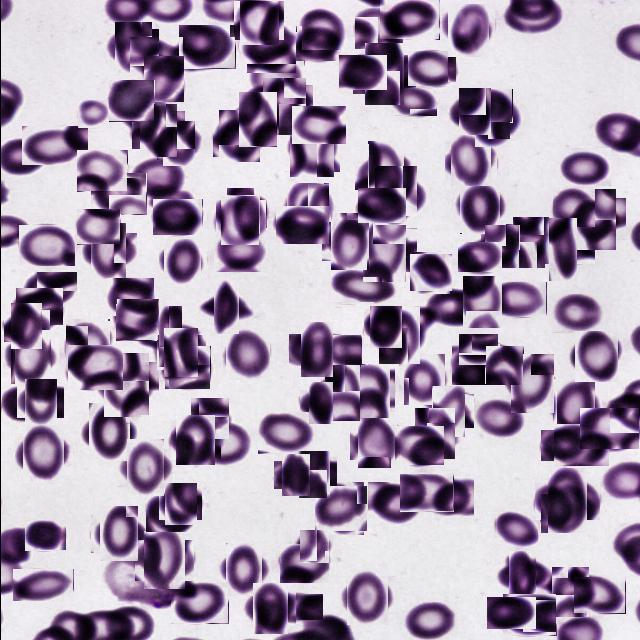red blood cell: (98, 358, 154, 412), (356, 223, 411, 277), (246, 55, 304, 104), (540, 474, 593, 526), (569, 193, 620, 245), (126, 156, 186, 200), (358, 49, 409, 100), (370, 170, 421, 221), (21, 126, 87, 165), (506, 358, 557, 408), (579, 408, 639, 450), (178, 25, 235, 69), (238, 20, 295, 64), (84, 408, 134, 458), (548, 382, 598, 432), (342, 366, 392, 416), (138, 536, 188, 586), (62, 320, 112, 370), (286, 124, 336, 174), (18, 429, 68, 479), (258, 82, 308, 132), (360, 146, 410, 196), (67, 345, 122, 390), (222, 329, 272, 378), (374, 311, 424, 360), (330, 269, 396, 306), (257, 412, 315, 454), (170, 582, 228, 624), (194, 419, 248, 464), (316, 484, 365, 533), (379, 0, 439, 40), (367, 482, 423, 524), (342, 573, 391, 621), (90, 173, 146, 215), (553, 424, 608, 466), (121, 444, 169, 492), (455, 182, 503, 230), (6, 334, 54, 382), (353, 416, 401, 464), (572, 332, 620, 380), (326, 218, 374, 266), (18, 225, 74, 266), (502, 594, 556, 636), (444, 6, 491, 54), (233, 96, 280, 144), (94, 510, 141, 557), (215, 113, 262, 160), (424, 286, 479, 326), (129, 37, 182, 78), (551, 294, 605, 334), (422, 474, 473, 516), (76, 150, 127, 192), (447, 138, 493, 184), (85, 228, 131, 274), (411, 411, 457, 457), (319, 370, 365, 416), (469, 96, 515, 142), (459, 279, 505, 325), (539, 227, 585, 273), (134, 107, 180, 153), (401, 602, 456, 640), (213, 232, 265, 272), (401, 356, 446, 402), (354, 8, 403, 50), (291, 106, 345, 144), (399, 474, 453, 512), (221, 547, 266, 592), (164, 346, 210, 390), (172, 418, 218, 462), (275, 206, 328, 244), (12, 569, 73, 602), (474, 399, 524, 439), (394, 426, 444, 466), (491, 282, 546, 318), (22, 272, 77, 308), (558, 148, 610, 186), (451, 344, 499, 385), (279, 542, 328, 582), (548, 570, 592, 614), (110, 26, 154, 70), (285, 184, 329, 228), (508, 220, 552, 264), (248, 586, 292, 630), (218, 198, 262, 242), (294, 328, 338, 372), (236, 0, 281, 43), (108, 80, 154, 122), (573, 577, 625, 614), (152, 199, 202, 236), (147, 315, 190, 358), (143, 56, 183, 102), (307, 334, 361, 368), (160, 242, 203, 284), (115, 299, 158, 341), (106, 278, 153, 316), (407, 51, 456, 87), (426, 390, 468, 432), (290, 454, 332, 496), (357, 188, 406, 224), (160, 332, 202, 374), (15, 288, 62, 325), (145, 496, 193, 532), (301, 8, 342, 50), (552, 188, 595, 228), (338, 55, 386, 90), (190, 398, 229, 440), (295, 26, 340, 62), (223, 190, 263, 230), (410, 253, 450, 293), (206, 287, 246, 327), (539, 494, 579, 534), (454, 92, 494, 132), (20, 382, 60, 422), (76, 209, 120, 245), (486, 597, 535, 629), (482, 226, 521, 266), (7, 306, 46, 346), (159, 124, 198, 163), (494, 511, 536, 547), (540, 430, 586, 462), (266, 594, 322, 620), (502, 556, 540, 594), (484, 346, 522, 384), (470, 89, 512, 123), (366, 308, 403, 346), (126, 100, 169, 132), (1, 386, 39, 422), (161, 486, 198, 522), (457, 242, 501, 272), (389, 88, 436, 116), (24, 520, 66, 551), (458, 334, 498, 366), (277, 457, 312, 493), (303, 386, 337, 420), (298, 530, 330, 562), (77, 100, 107, 128)
